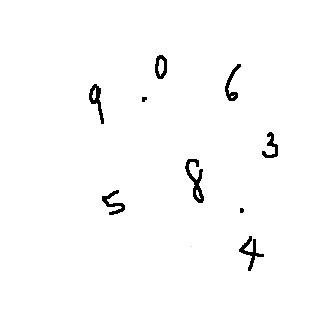.: (137, 92, 156, 114), (238, 200, 252, 220)
0: (151, 53, 176, 83)
3: (257, 125, 284, 168)
4: (231, 236, 271, 275)
5: (102, 182, 137, 226)
6: (221, 61, 248, 105)
8: (174, 155, 213, 212)
9: (83, 78, 107, 138)
